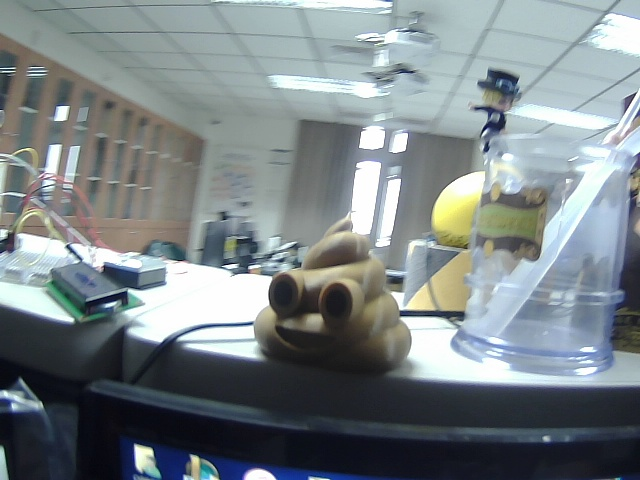shit: (251, 207, 418, 376)
